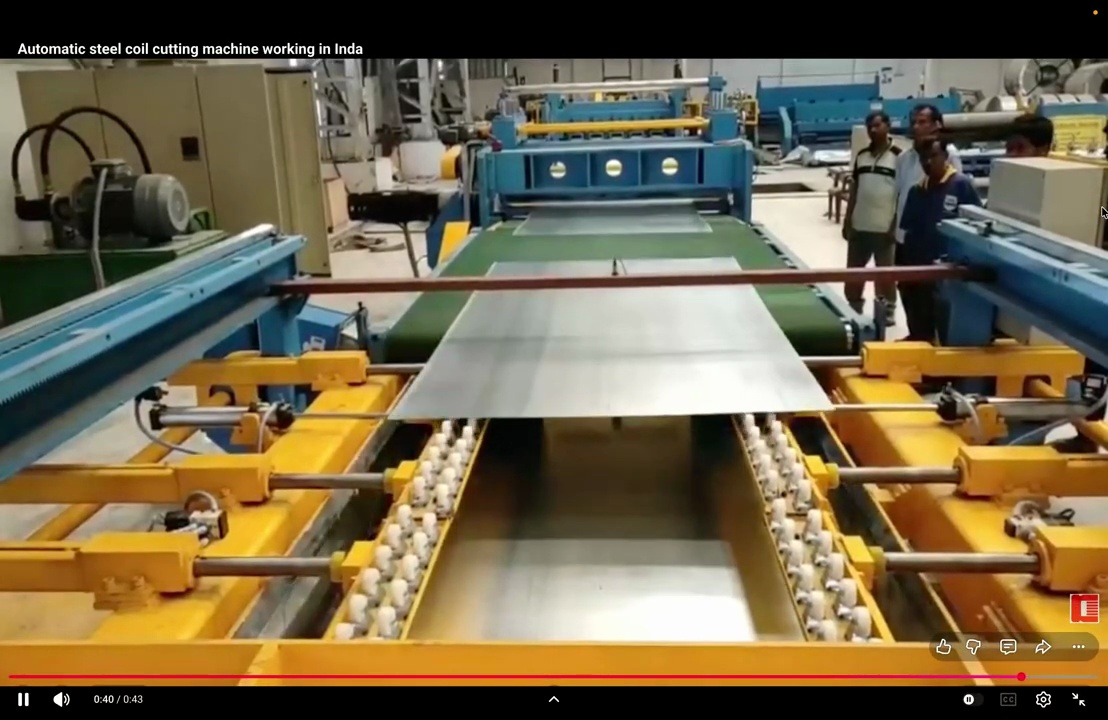steel plate: (390, 286, 830, 418), (513, 202, 711, 235)
